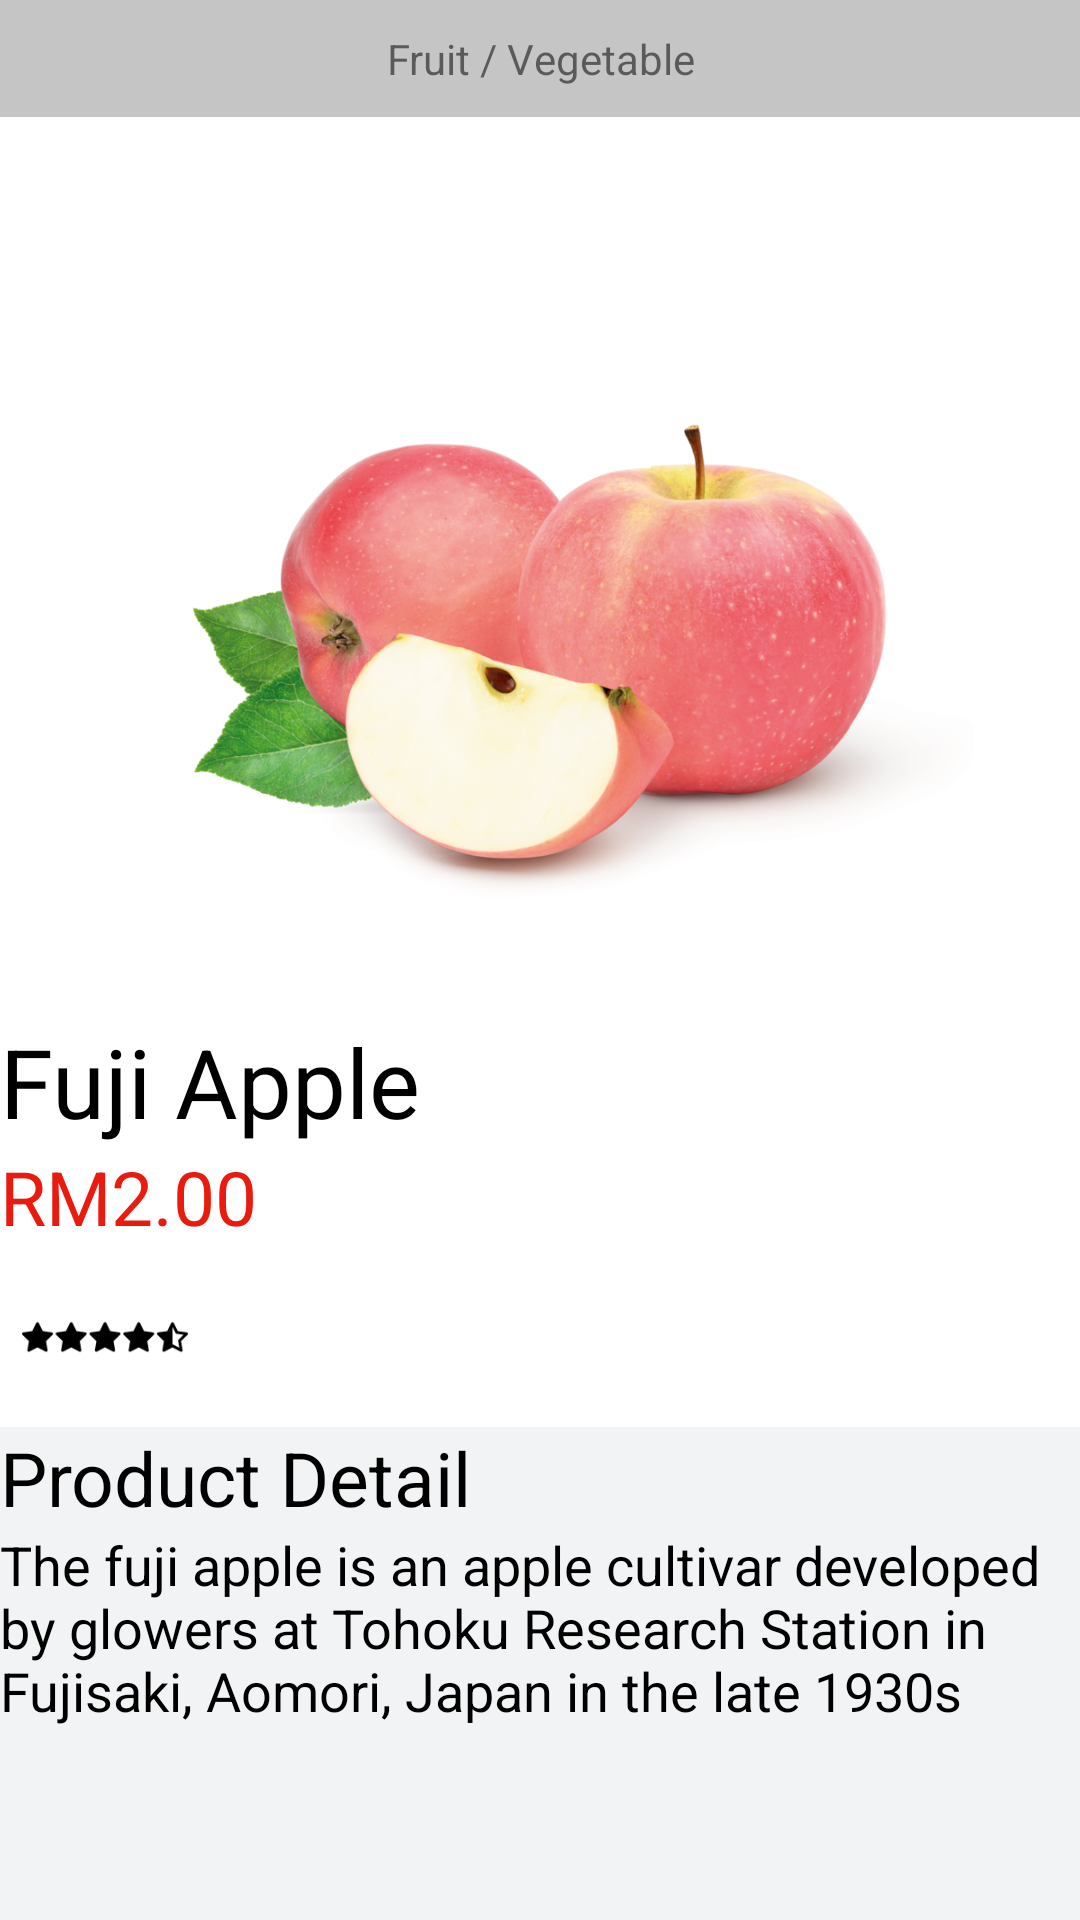

Screen size 1080px×1920px. Icon name, then its box in pixels as (x1, y1, x2, y2):
starrate: (22, 1322, 188, 1352)
